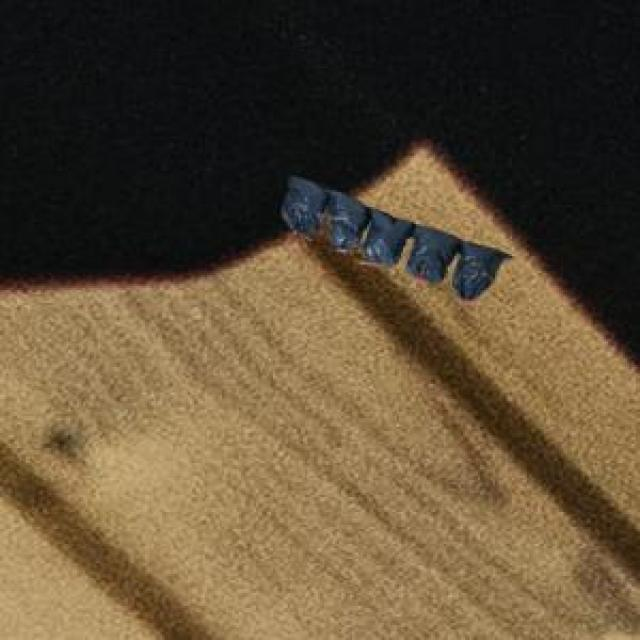miscellaneous trash: (277, 173, 507, 297)
